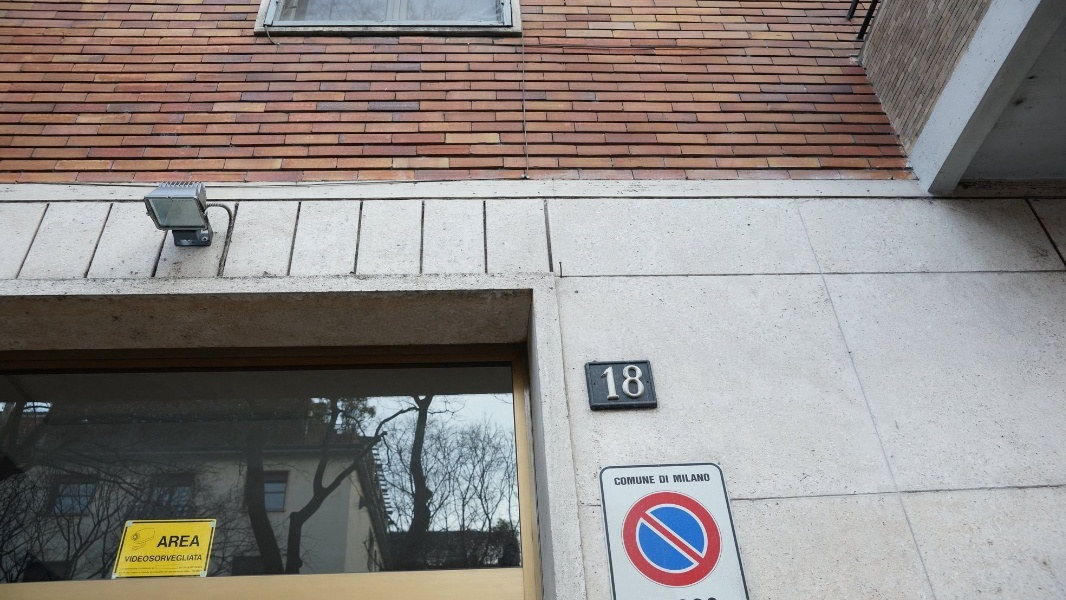text: (609, 365, 624, 401), (625, 365, 640, 401), (602, 365, 608, 401), (177, 535, 192, 548), (641, 365, 646, 401), (163, 535, 176, 548), (625, 476, 640, 486), (641, 476, 655, 486), (129, 554, 144, 563), (145, 554, 160, 563), (161, 554, 176, 563), (177, 554, 192, 563), (689, 474, 704, 483), (674, 474, 688, 483), (659, 475, 672, 484), (614, 476, 624, 486), (193, 535, 200, 548), (193, 554, 202, 563), (705, 474, 711, 483), (126, 554, 128, 563)
